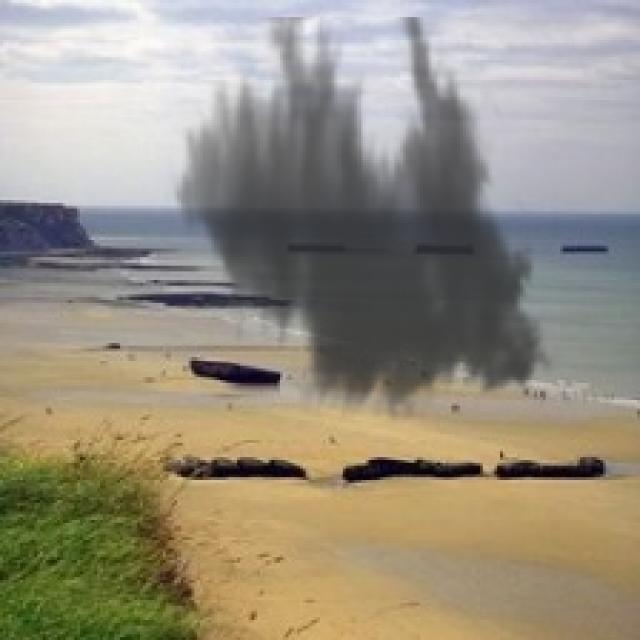smoke: (163, 17, 563, 429)
